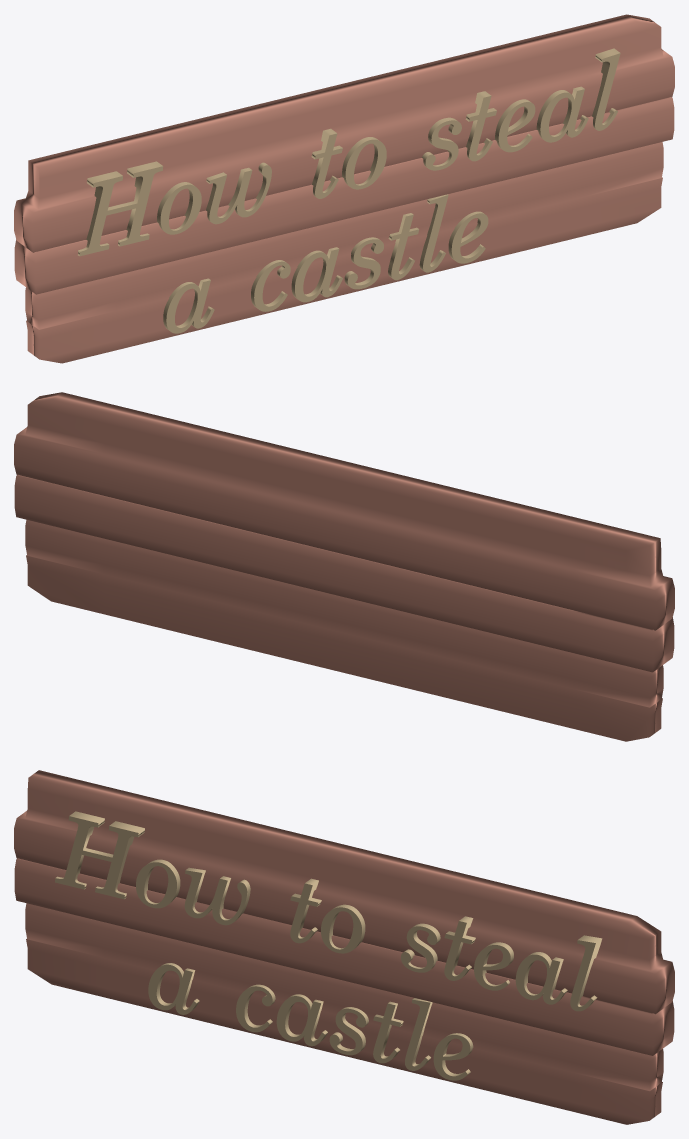
Rendered from BigSignV2p2.fbx.
3 renders of one model, top to bottom at view 1: azimuth 30°, elevation 25°; view 2: azimuth 150°, elevation 25°; view 3: azimuth 330°, elevation 25°, orthographic.
Parts seen in each view (by area): view 1: Cube.025; view 2: Cube.025; view 3: Cube.025.
Boxes of the visible parts, x1=… form: Cube.025: x1=14, y1=14, x2=674, y2=363; Cube.025: x1=14, y1=392, x2=674, y2=741; Cube.025: x1=14, y1=770, x2=674, y2=1124.
Bounding box in the file's own units: 457 × 137 × 28.19.
